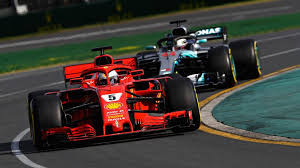f1_car: (22, 44, 205, 147), (131, 17, 269, 94)
